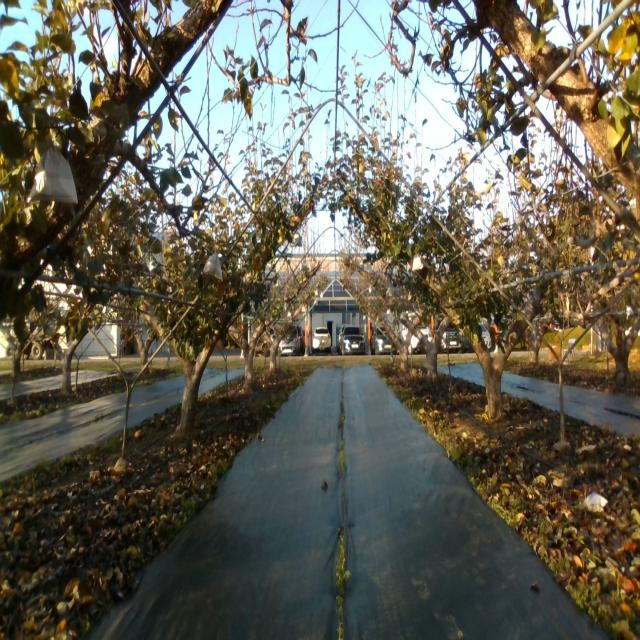pearbags: (26, 148, 78, 204), (204, 253, 224, 281), (411, 254, 424, 272)
